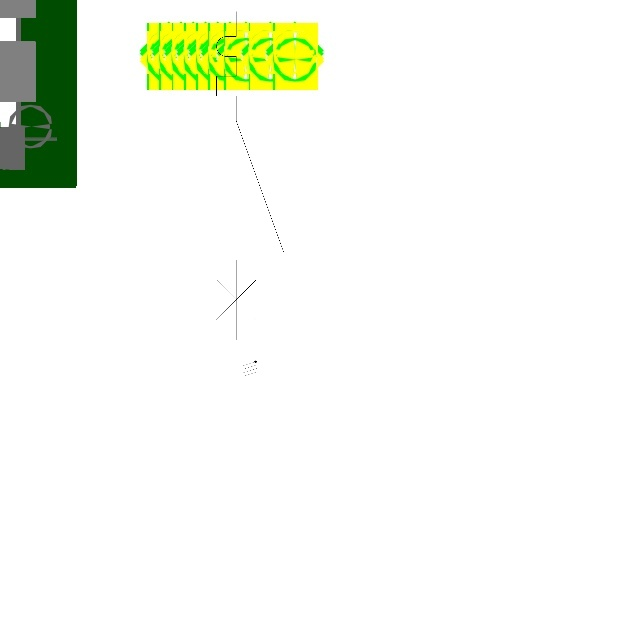interruptor_termomagnetico: (208, 3, 292, 347)
